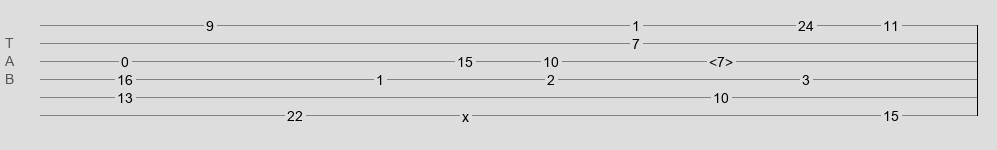0: (121, 54, 129, 64)
1: (376, 72, 384, 82), (632, 18, 640, 28)
10: (543, 54, 559, 64), (713, 90, 729, 100)
11: (883, 18, 899, 28)
13: (117, 90, 133, 100)
15: (457, 54, 473, 64), (883, 108, 899, 118)
16: (117, 72, 133, 82)
2: (547, 72, 555, 82)
22: (287, 108, 303, 118)
24: (798, 18, 814, 28)
3: (802, 72, 810, 82)
7: (632, 36, 640, 46)
9: (206, 18, 214, 28)
harmonic: (709, 54, 733, 64)
x: (462, 109, 469, 117)
